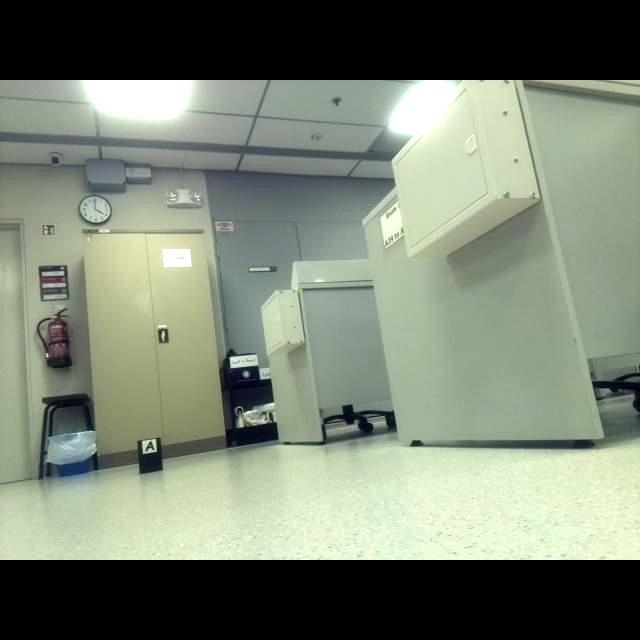A: (146, 442, 156, 452)
